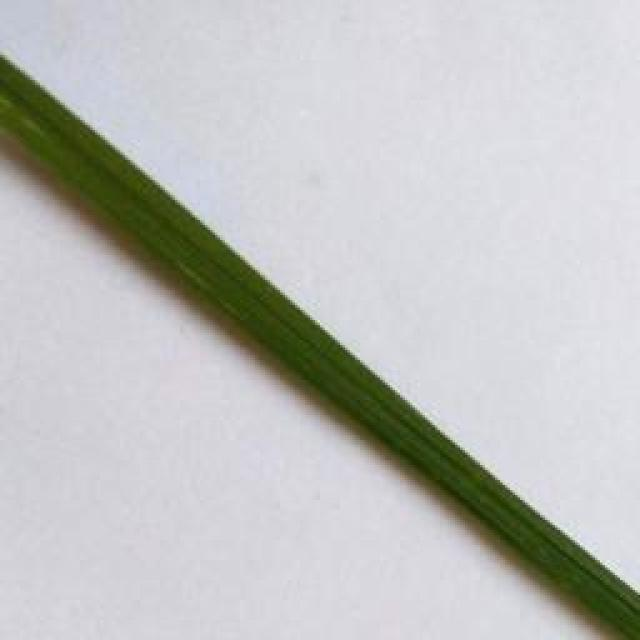Healthy-Plant: (134, 166, 277, 365), (1, 58, 130, 230), (277, 287, 379, 437), (380, 379, 476, 516), (548, 518, 640, 640), (476, 459, 546, 577)
